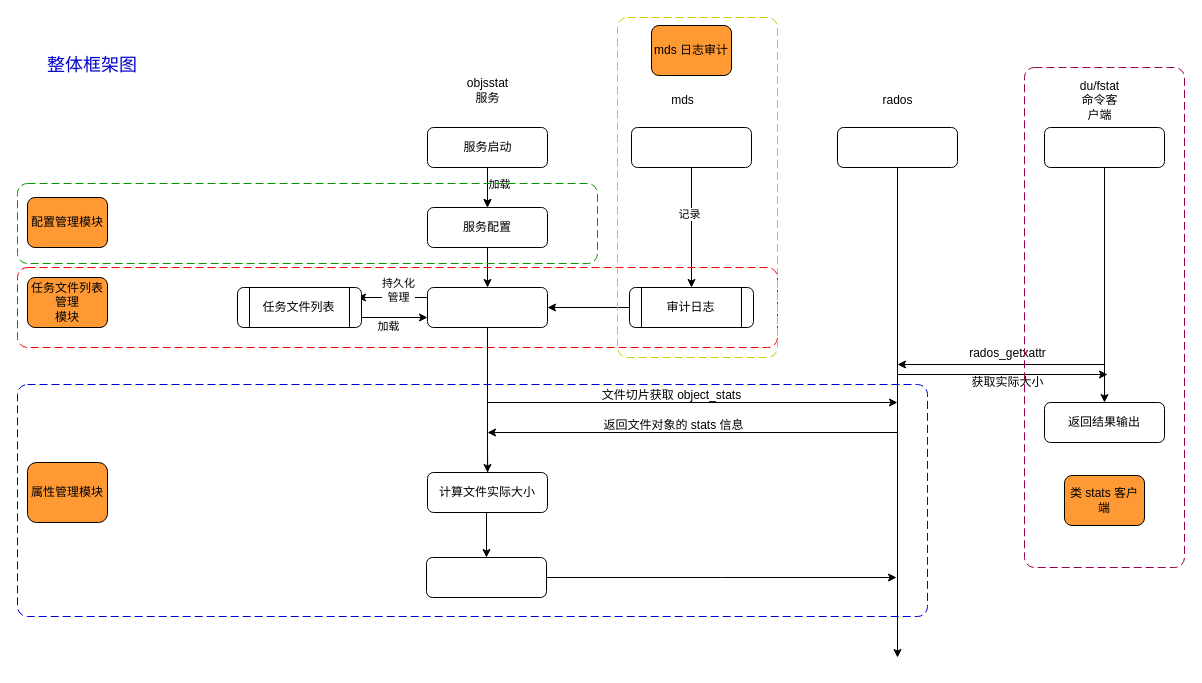
Some shapes in this 1202 by 683 pixel diagram are drawn without their labels. Here are the shapes that lost their labels. From the top down, the box of each, then its label:
(630, 126, 752, 168): write/open/unlink等
(836, 126, 958, 168): API 接口访问
(1044, 126, 1164, 168): 获取统计容量属性
(426, 286, 548, 328): 构建文件扫描队列
(426, 556, 546, 598): 通过 rados_setxattr接口设置属性
